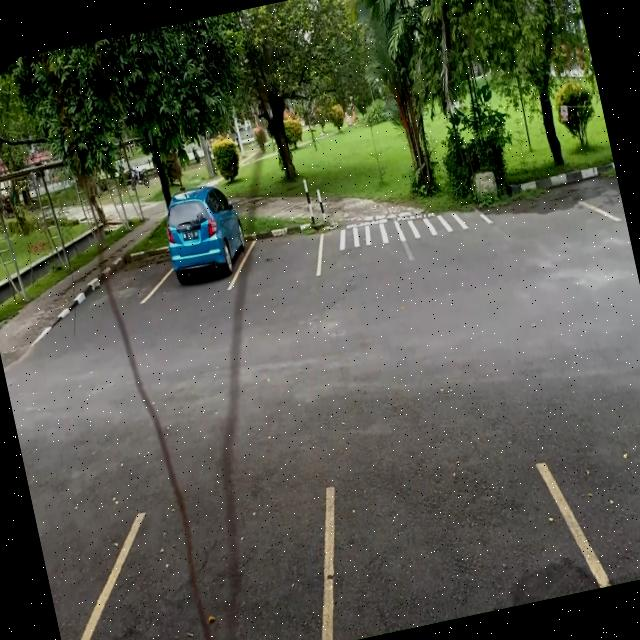empty: (308, 427, 611, 640), (37, 473, 331, 640), (63, 224, 174, 306), (235, 205, 330, 288)
occupied: (156, 215, 252, 292)
